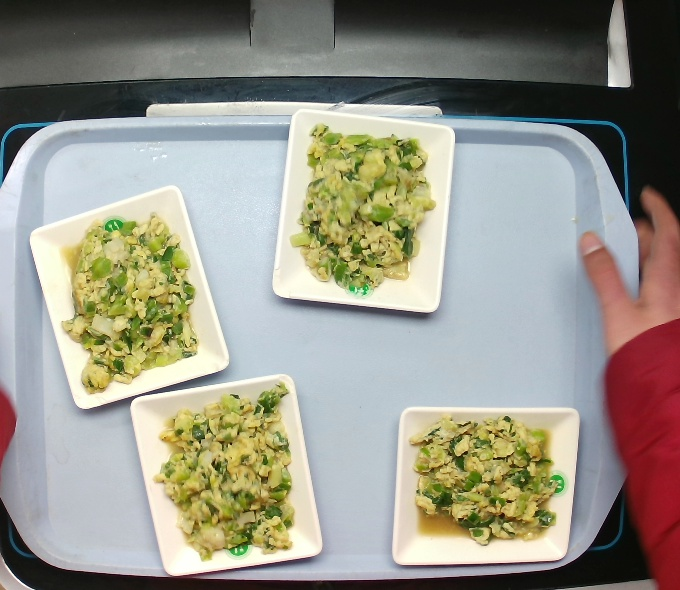wcq-SuanMiaoChaoDan: (49, 212, 208, 396), (148, 380, 302, 562), (286, 122, 438, 294), (405, 410, 568, 551)
